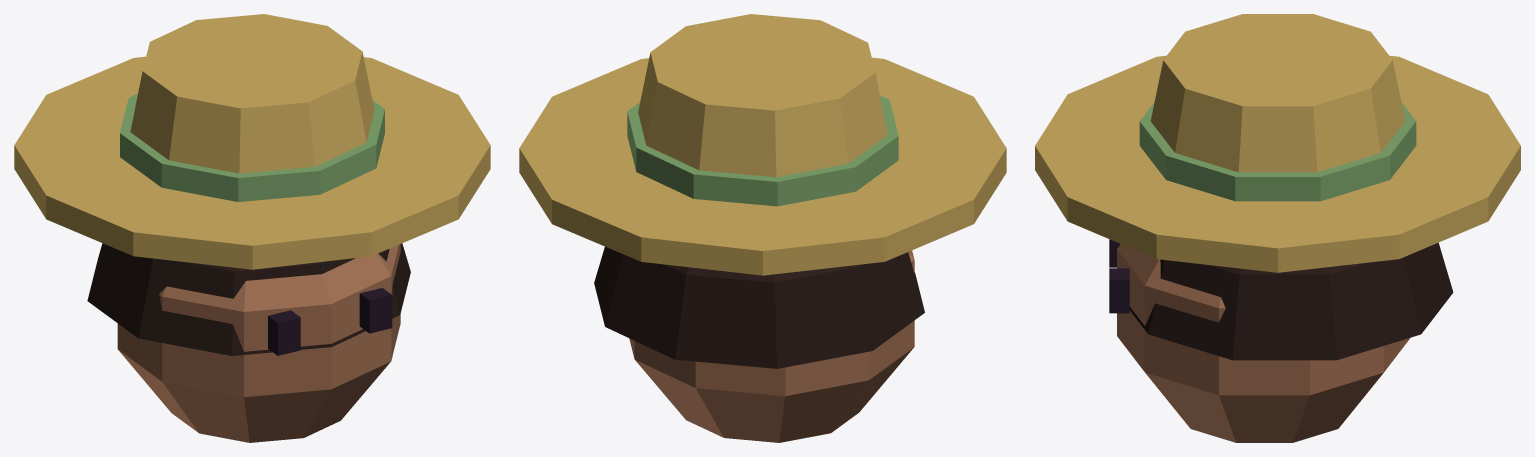
Rendered from head_noor.gltf.
3 views of the same model, side by side, from view 1: azimuth 30°, elevation 25°; view 2: azimuth 150°, elevation 25°; view 3: azimuth 270°, elevation 25° (orthographic). The views are drawn at different scales.
Visible parts, largest first — view 1: brim, crown, skin, hair, band, eyes; view 2: brim, crown, hair, skin, band; view 3: brim, crown, hair, skin, band, eyes.
Boxes of the visible parts, x1,y1,x2,y2 form: brim: [14, 56, 490, 269]; crown: [130, 14, 374, 173]; skin: [117, 244, 400, 442]; hair: [87, 243, 410, 355]; band: [120, 93, 384, 201]; eyes: [268, 288, 392, 355]; brim: [519, 57, 1006, 275]; crown: [638, 14, 887, 177]; hair: [594, 246, 924, 368]; skin: [629, 250, 914, 442]; band: [627, 95, 898, 206]; brim: [1035, 55, 1520, 272]; crown: [1150, 14, 1405, 172]; hair: [1129, 242, 1453, 360]; skin: [1117, 244, 1410, 442]; band: [1139, 102, 1416, 201]; eyes: [1109, 239, 1129, 313].
Size of the model in its own units: 0.72 by 0.61 by 0.72.
